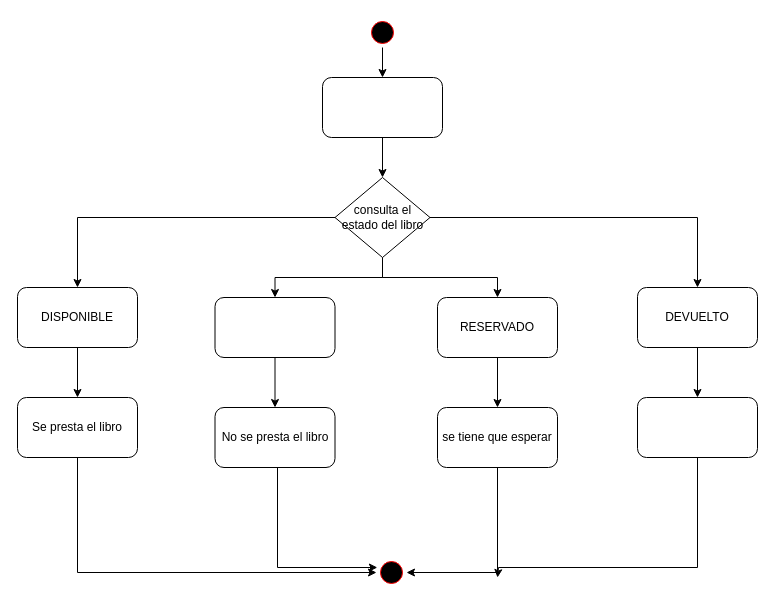
The diagram is 775 pixels wide and 605 high, and some of its shapes have lost their labels. Here are the shapes that lost their labels. From the top down, the box of each, then its label:
(322, 76, 442, 138): Libro
(214, 296, 335, 358): NO DISPONIBLE
(636, 396, 758, 458): Se pide el libro
